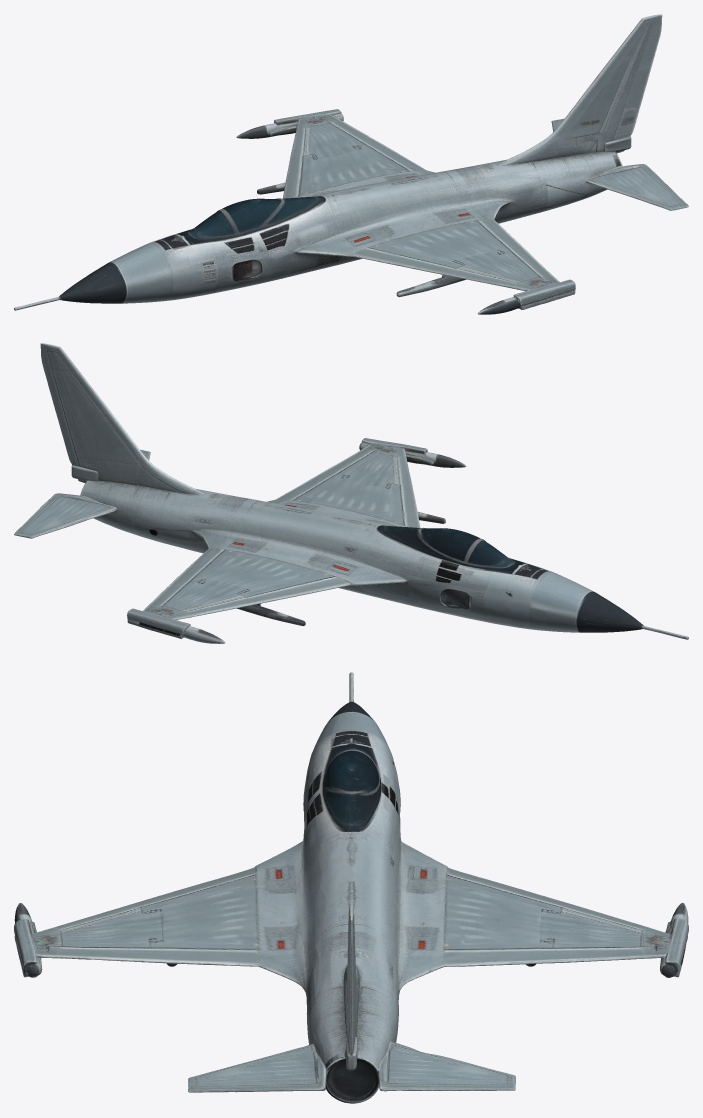
Rendered from mig21.glb.
The picture shows the model from 3 angles, top to bottom: view 1: azimuth 30°, elevation 25°; view 2: azimuth 150°, elevation 25°; view 3: azimuth 270°, elevation 25°; orthographic projection. The views are drawn at different scales.
Bounding box in the file's own units: 1.9 × 0.4727 × 1.25.
Materials: 1 (1 with a texture image).
